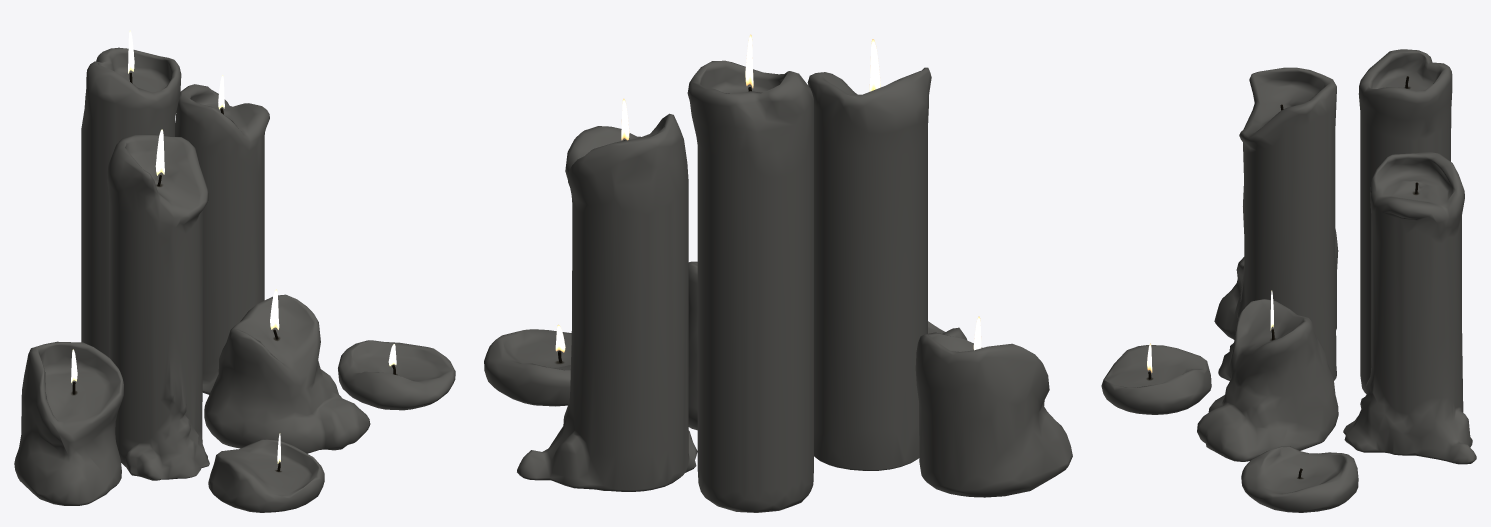
Rendered from candles.glb.
The picture shows the model from 3 angles, left to right: view 1: azimuth 30°, elevation 25°; view 2: azimuth 150°, elevation 25°; view 3: azimuth 270°, elevation 25°; orthographic projection. The views are drawn at different scales.
Visible parts, largest first — view 1: SM_Candle_02_LOD0, SM_Candle_04_LOD0, SM_Candle_03_LOD0, SM_Candle_05_LOD0, SM_Candle_01_LOD0, SM_Candle_08_LOD0, SM_Candle_07_LOD0; view 2: SM_Candle_01_LOD0, SM_Candle_03_LOD0, SM_Candle_02_LOD0, SM_Candle_05_LOD0, SM_Candle_07_LOD0, SM_Candle_04_LOD0; view 3: SM_Candle_03_LOD0, SM_Candle_02_LOD0, SM_Candle_04_LOD0, SM_Candle_01_LOD0, SM_Candle_07_LOD0, SM_Candle_08_LOD0, SM_Candle_05_LOD0.
Boxes of the visible parts, <box> form: SM_Candle_02_LOD0: <box>107,134,209,480</box>; SM_Candle_04_LOD0: <box>204,294,370,453</box>; SM_Candle_03_LOD0: <box>175,84,269,394</box>; SM_Candle_05_LOD0: <box>14,341,123,505</box>; SM_Candle_01_LOD0: <box>81,47,181,357</box>; SM_Candle_08_LOD0: <box>208,439,324,512</box>; SM_Candle_07_LOD0: <box>338,340,455,410</box>; SM_Candle_01_LOD0: <box>687,60,813,512</box>; SM_Candle_03_LOD0: <box>517,113,697,491</box>; SM_Candle_02_LOD0: <box>807,67,931,470</box>; SM_Candle_05_LOD0: <box>915,332,1072,497</box>; SM_Candle_07_LOD0: <box>484,329,571,406</box>; SM_Candle_04_LOD0: <box>688,261,697,430</box>; SM_Candle_03_LOD0: <box>1343,151,1476,464</box>; SM_Candle_02_LOD0: <box>1218,67,1336,380</box>; SM_Candle_04_LOD0: <box>1197,299,1338,461</box>; SM_Candle_01_LOD0: <box>1358,49,1452,393</box>; SM_Candle_07_LOD0: <box>1241,446,1358,512</box>; SM_Candle_08_LOD0: <box>1101,345,1211,414</box>; SM_Candle_05_LOD0: <box>1214,229,1338,339</box>.
Size of the model in its own units: 41.88 by 34.82 by 32.24.
Materials: 2 (2 with a texture image).
